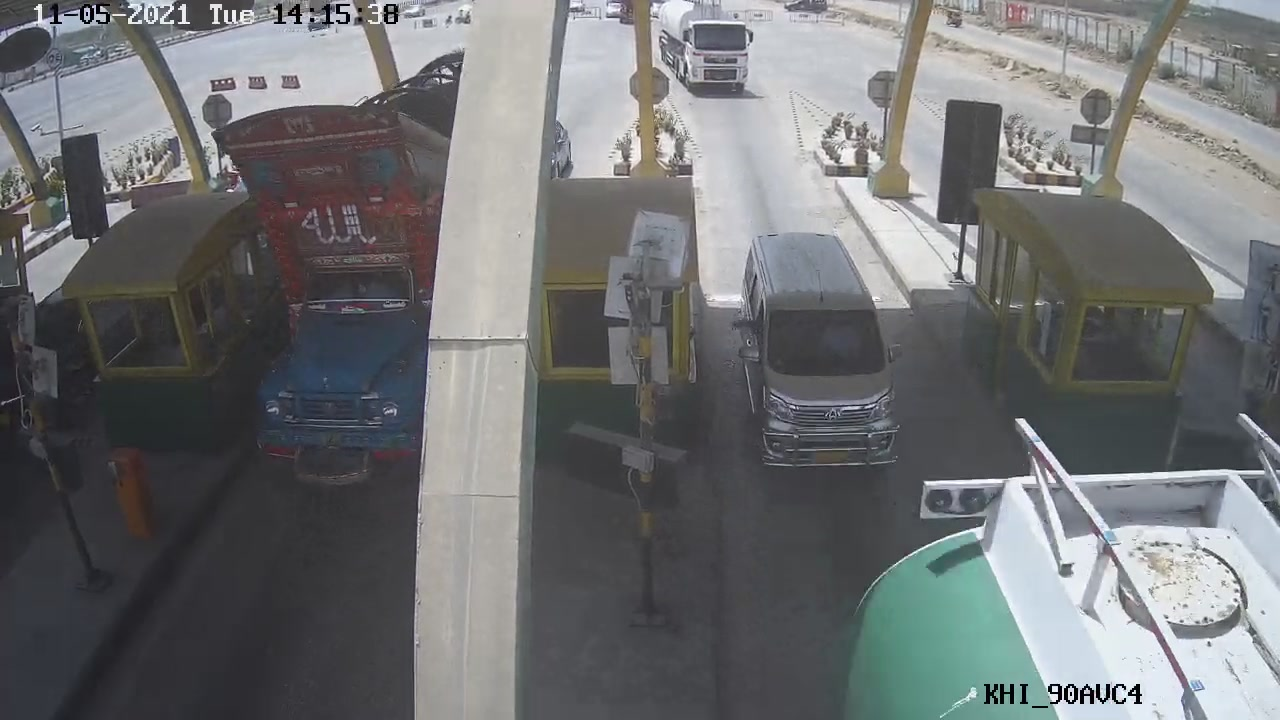F1: (726, 222, 894, 479)
